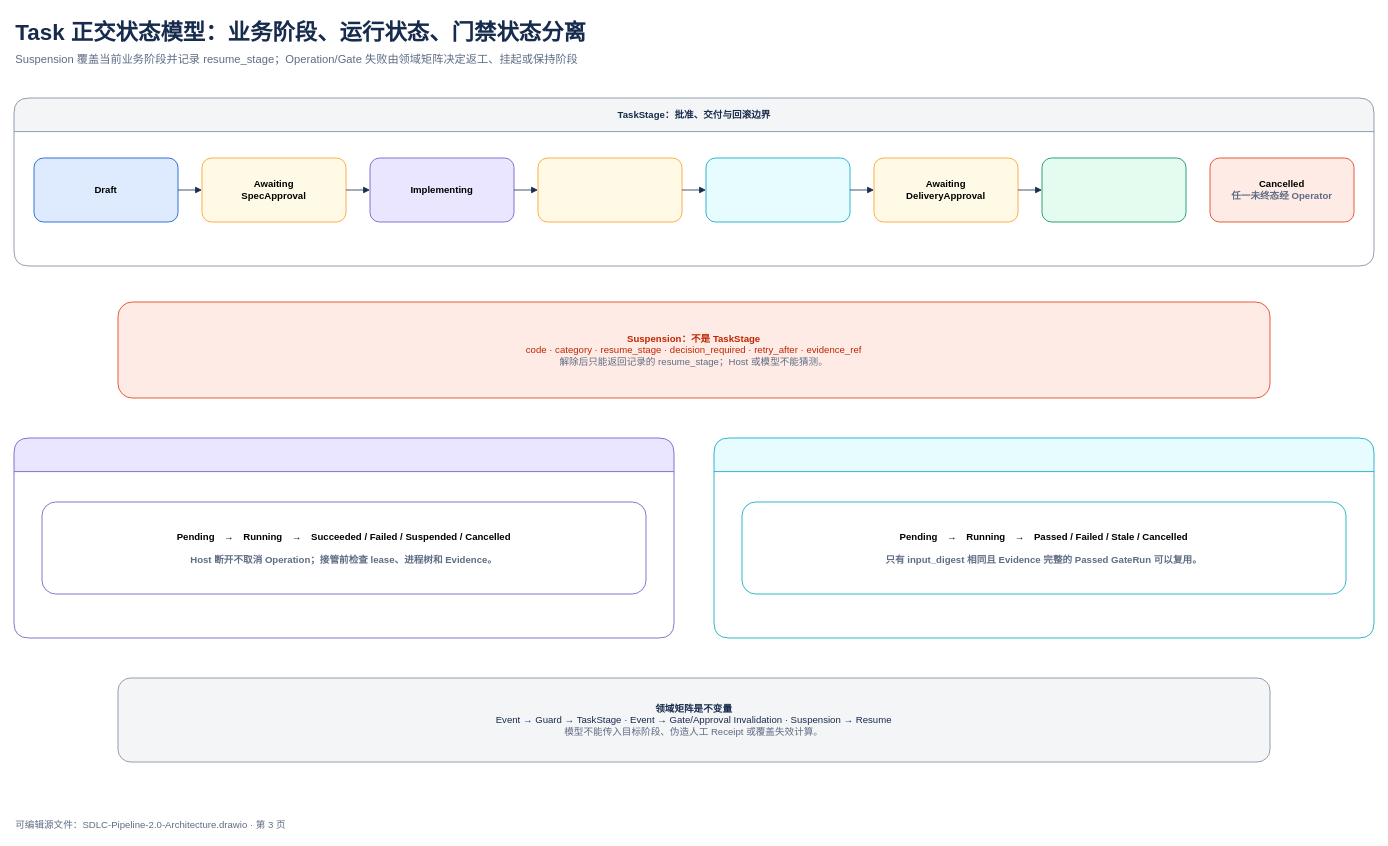
This 1388x846 diagram has some shape labels left out. Each missing label, with the box of its shape:
Accepting: (705, 157, 850, 222)
Awaiting HumanReview: (537, 157, 682, 222)
Finalized: (1041, 157, 1186, 222)
GateStatus：确定性输入与 Evidence 新鲜度: (713, 437, 1374, 638)
OperationStatus：长运行、租约、心跳、取消和恢复: (13, 437, 674, 638)
